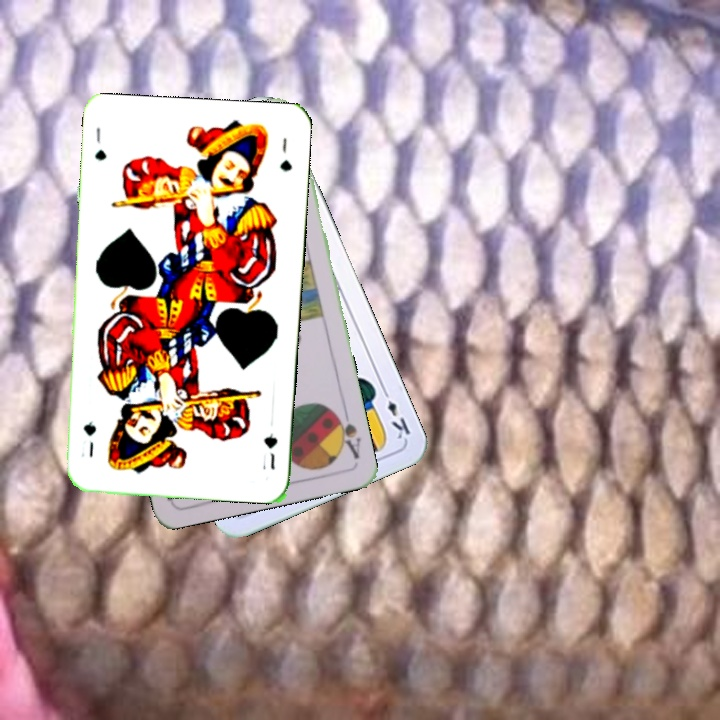EK: (378, 384, 413, 442)
GU: (258, 429, 280, 473), (91, 123, 109, 164)
SA: (329, 404, 363, 462)
